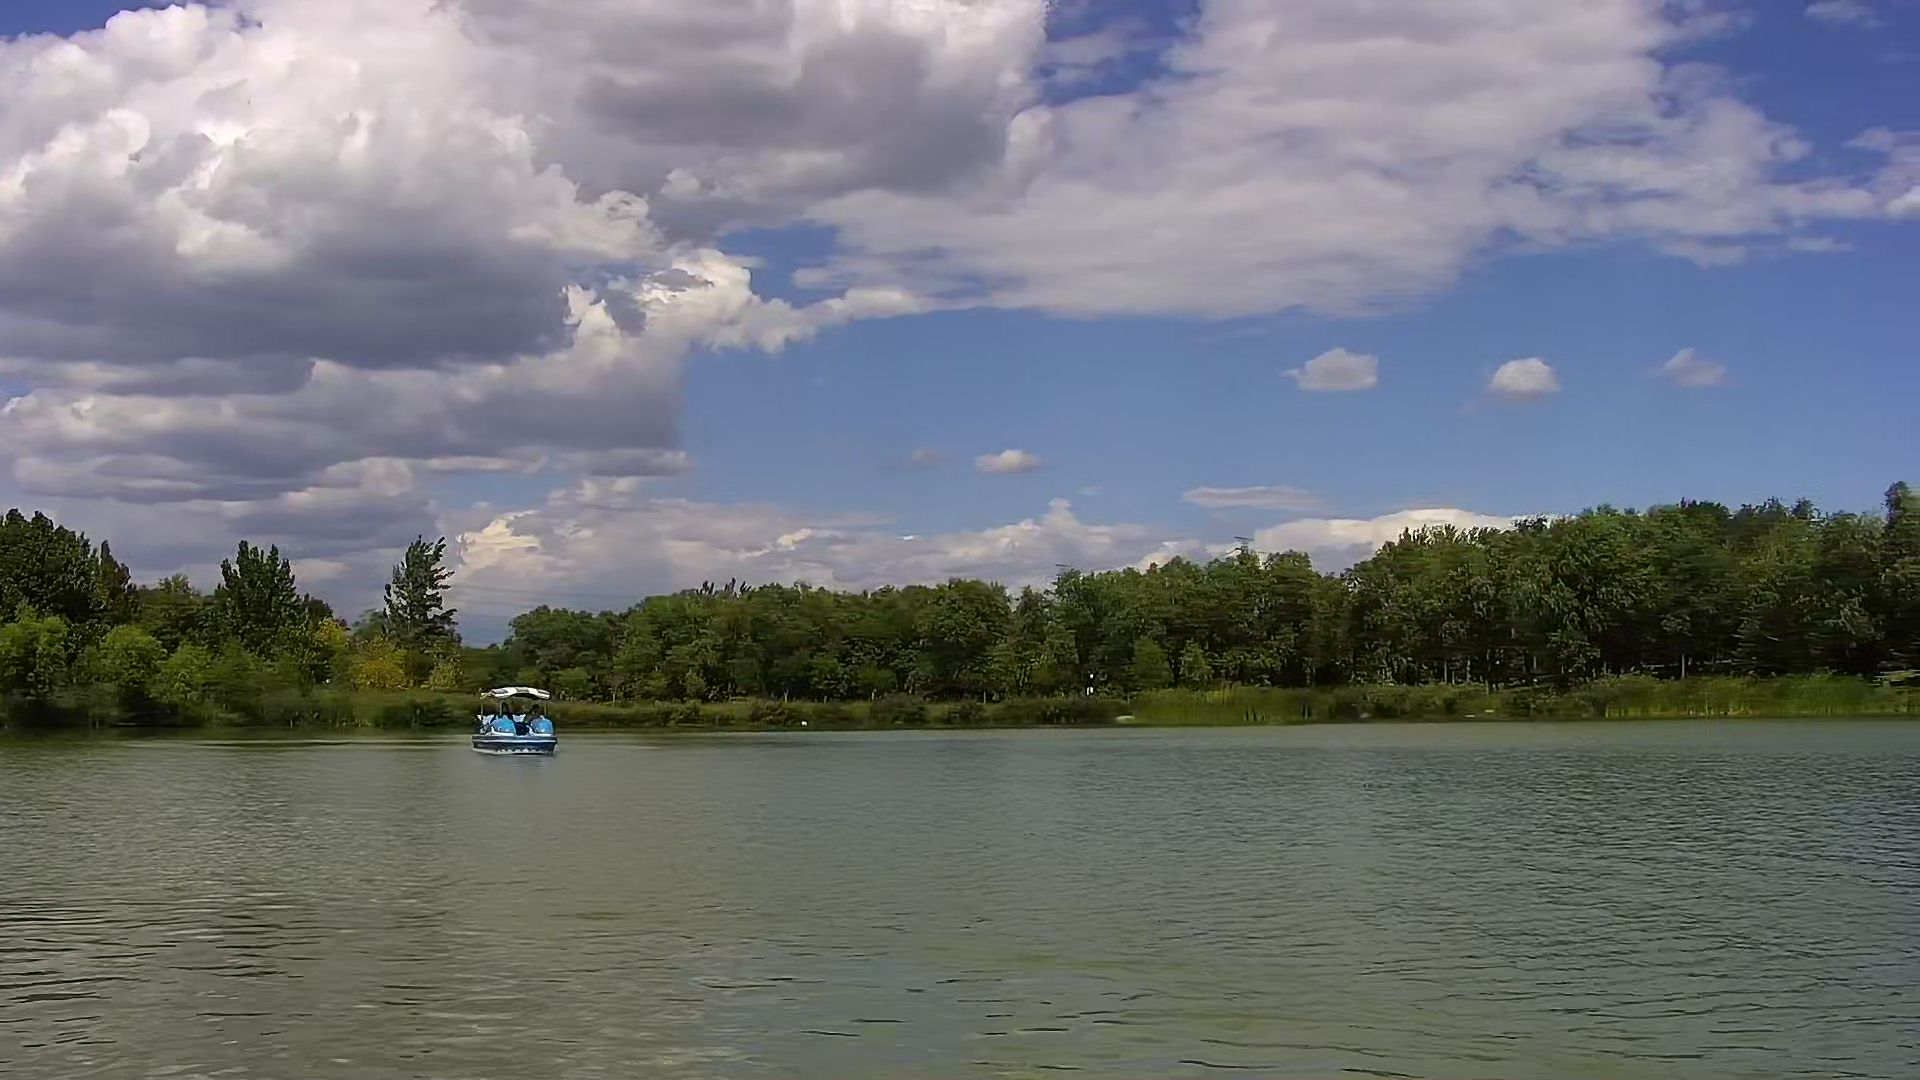boat: (465, 688, 549, 761)
